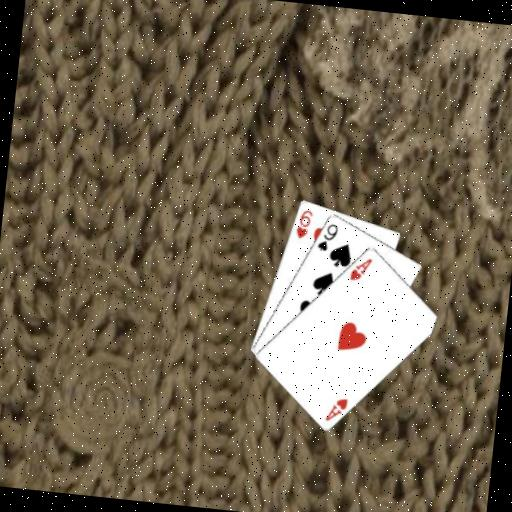6H: (292, 206, 314, 242)
9S: (314, 219, 340, 254)
AH: (322, 393, 350, 425), (347, 253, 375, 284)
